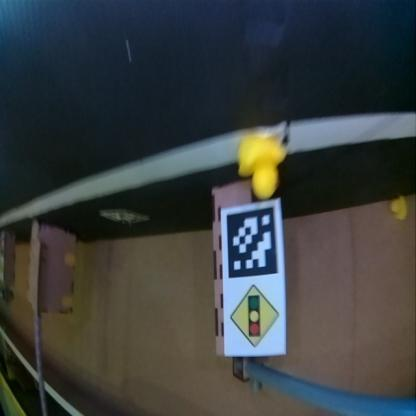Duckie: (236, 135, 286, 199), (389, 197, 407, 221)
QR code: (224, 204, 276, 278), (100, 211, 148, 225)
Signal sign: (224, 283, 284, 357)
